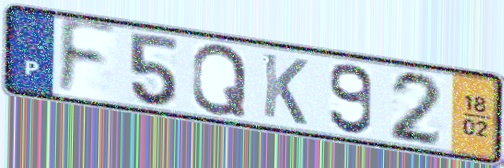2: (388, 70, 447, 149)
5: (126, 29, 181, 109)
9: (327, 62, 375, 135)
F: (55, 15, 120, 98)
K: (259, 49, 310, 128)
Q: (189, 42, 250, 119)
